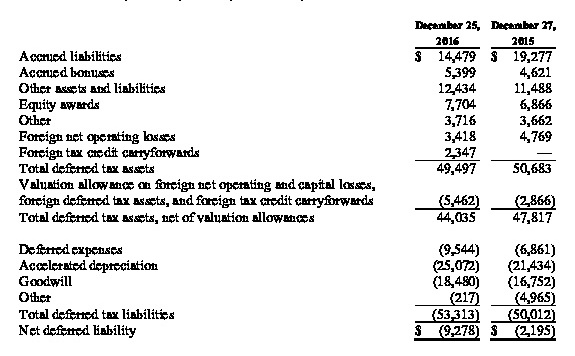table: (0, 0, 575, 356)
